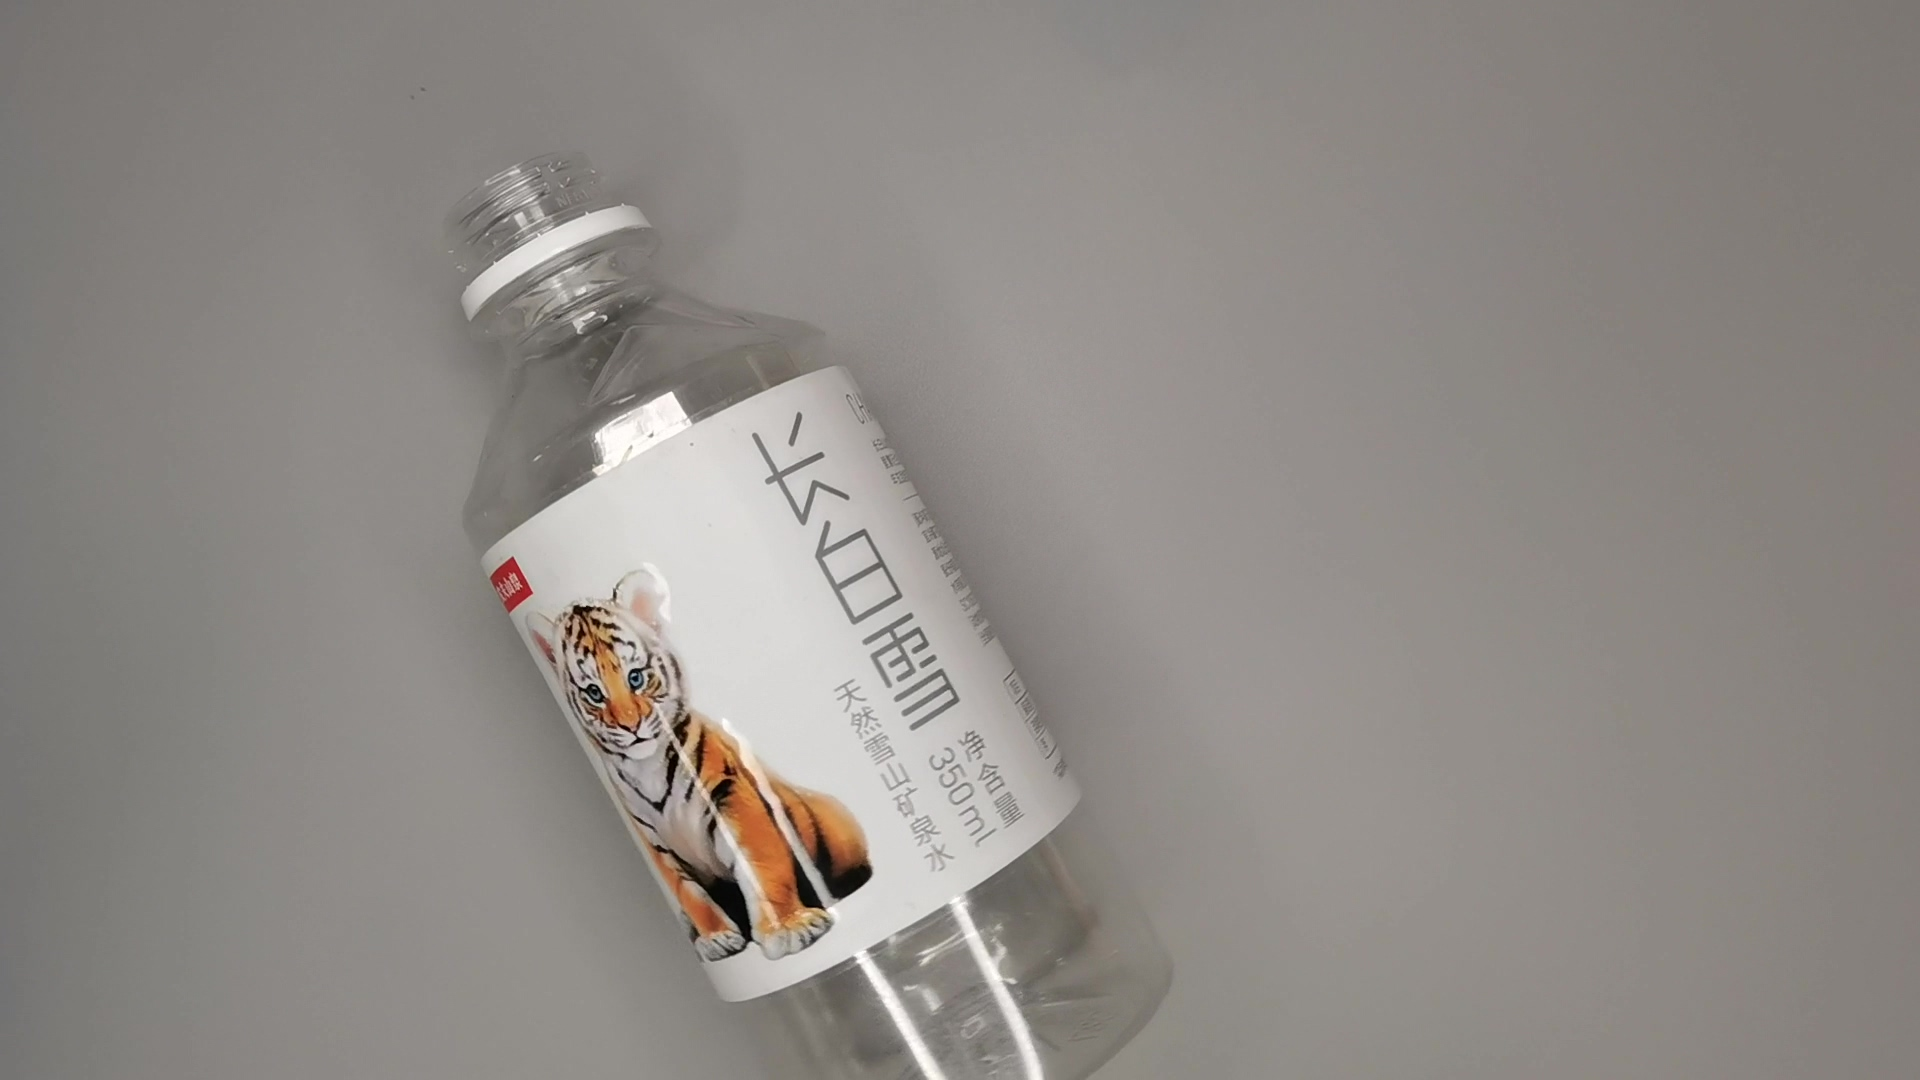bottle: (436, 138, 1183, 1080)
